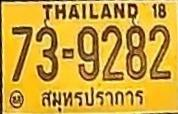2: (101, 25, 124, 81), (148, 24, 170, 80)
3: (35, 25, 58, 81)
7: (11, 26, 32, 82)
8: (125, 24, 146, 79)
9: (77, 25, 99, 81)
SPK: (37, 87, 147, 114)
